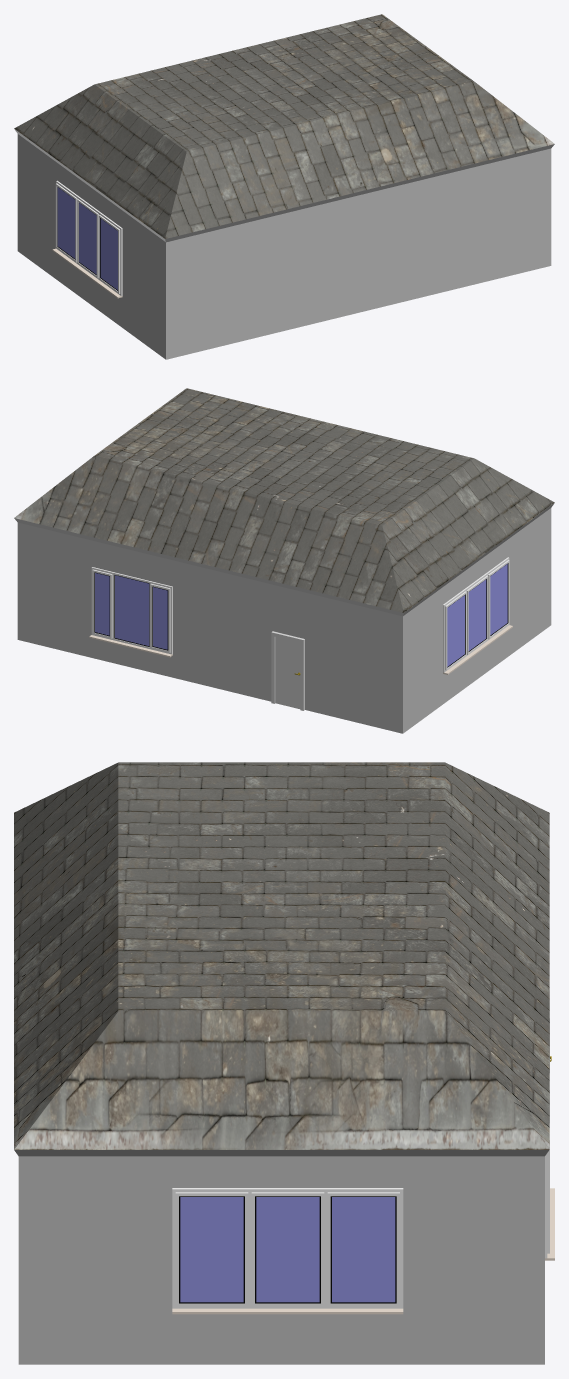
File: house builld5.fbx
3 renders of one model, top to bottom at view 1: azimuth 30°, elevation 25°; view 2: azimuth 150°, elevation 25°; view 3: azimuth 270°, elevation 25°, orthographic. The views are drawn at different scales.
Visible parts, largest first — view 1: Plane, Window.002; view 2: Plane, Window, Window.002, Door, DoorFrame; view 3: Plane, Window.001, Window.
Part boxes in pixels (<box>): Plane: <box>14,14,554,359</box>; Window.002: <box>52,180,122,298</box>; Plane: <box>14,388,554,733</box>; Window: <box>89,567,172,657</box>; Window.002: <box>443,557,512,674</box>; Door: <box>275,636,300,708</box>; DoorFrame: <box>271,631,304,710</box>; Plane: <box>14,762,549,1364</box>; Window.001: <box>172,1188,403,1314</box>; Window: <box>545,1073,554,1260</box>.
Size of the model in its own units: 1227 by 524 by 820.
